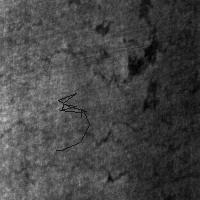crazing: (3, 119, 138, 182), (14, 44, 123, 106), (124, 34, 165, 112), (56, 93, 89, 150)
